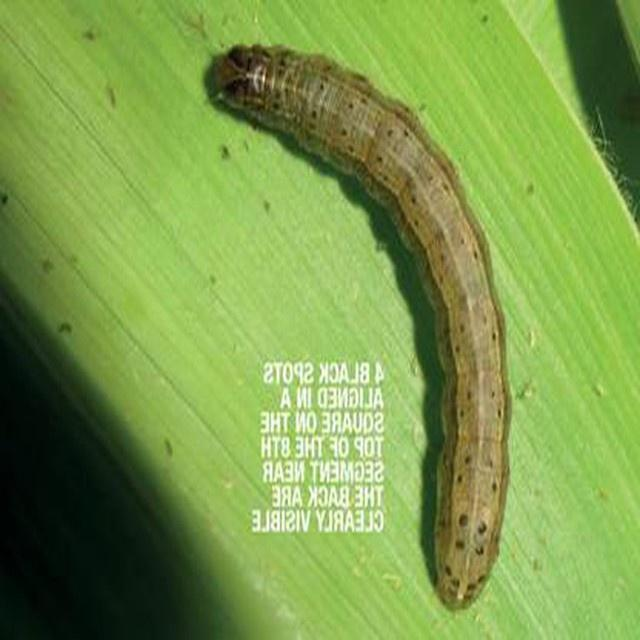gusano_cogollero: (205, 33, 512, 615)
